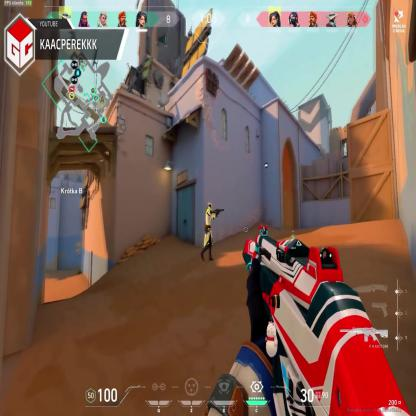enemy: (201, 203, 216, 262)
enemy_head: (208, 202, 212, 209)
